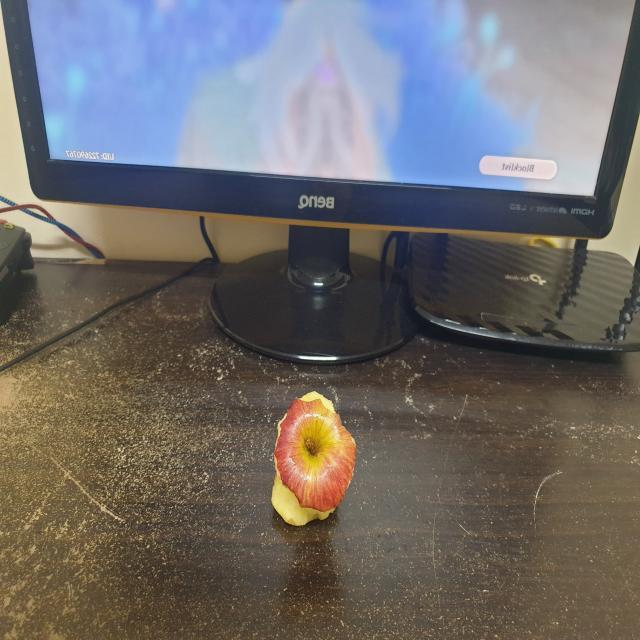apple: (262, 376, 360, 544)
